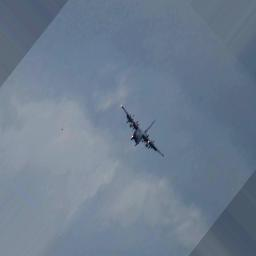Airplane: (121, 105, 164, 157)
